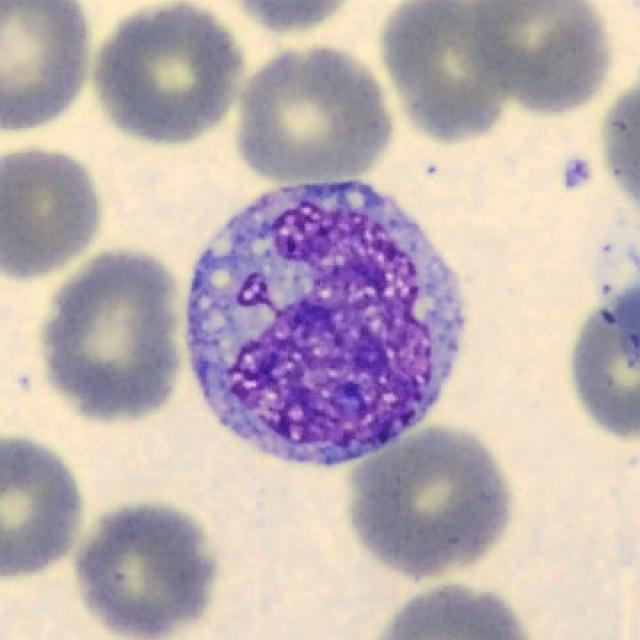Monocito: (185, 181, 468, 468)
